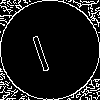I: (25, 25, 53, 73)
